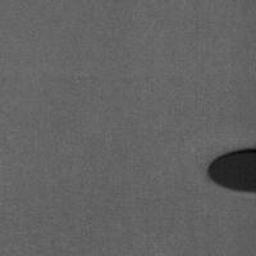Punching: (209, 148, 256, 192)
